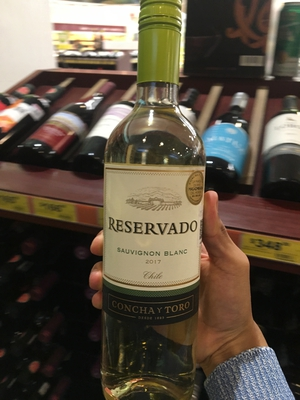reservado sauvignon blanc: (84, 12, 211, 400)
